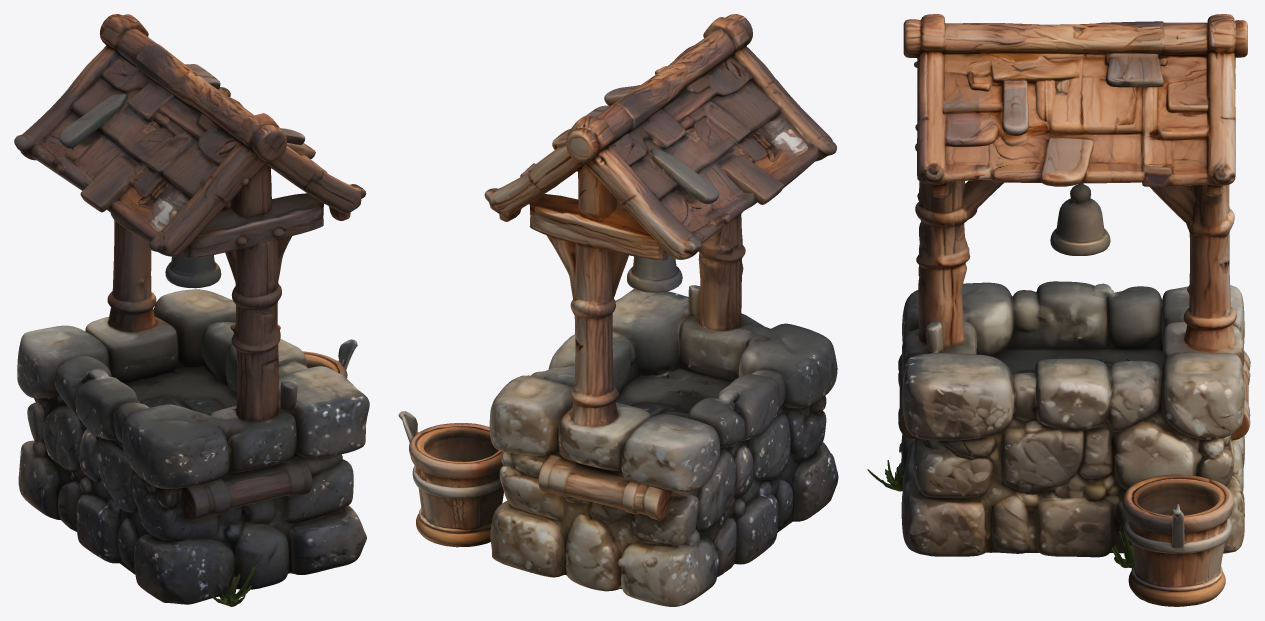
Rendered from prop-well.glb.
3 views of the same model, side by side, from view 1: azimuth 30°, elevation 25°; view 2: azimuth 150°, elevation 25°; view 3: azimuth 270°, elevation 25° (orthographic). The views are drawn at different scales.
Visible parts, largest first — view 1: tripo_node_78389924-bfd8-4b83-8b9e-0d78073b6de5; view 2: tripo_node_78389924-bfd8-4b83-8b9e-0d78073b6de5; view 3: tripo_node_78389924-bfd8-4b83-8b9e-0d78073b6de5.
Part boxes in pixels (box(x1,y1,x2,y2)): tripo_node_78389924-bfd8-4b83-8b9e-0d78073b6de5: box(14, 14, 369, 606); tripo_node_78389924-bfd8-4b83-8b9e-0d78073b6de5: box(398, 14, 838, 606); tripo_node_78389924-bfd8-4b83-8b9e-0d78073b6de5: box(867, 14, 1250, 606).
Bounding box in the file's own units: 1.81 × 2.5 × 1.75.
1 material, 1 textured.
